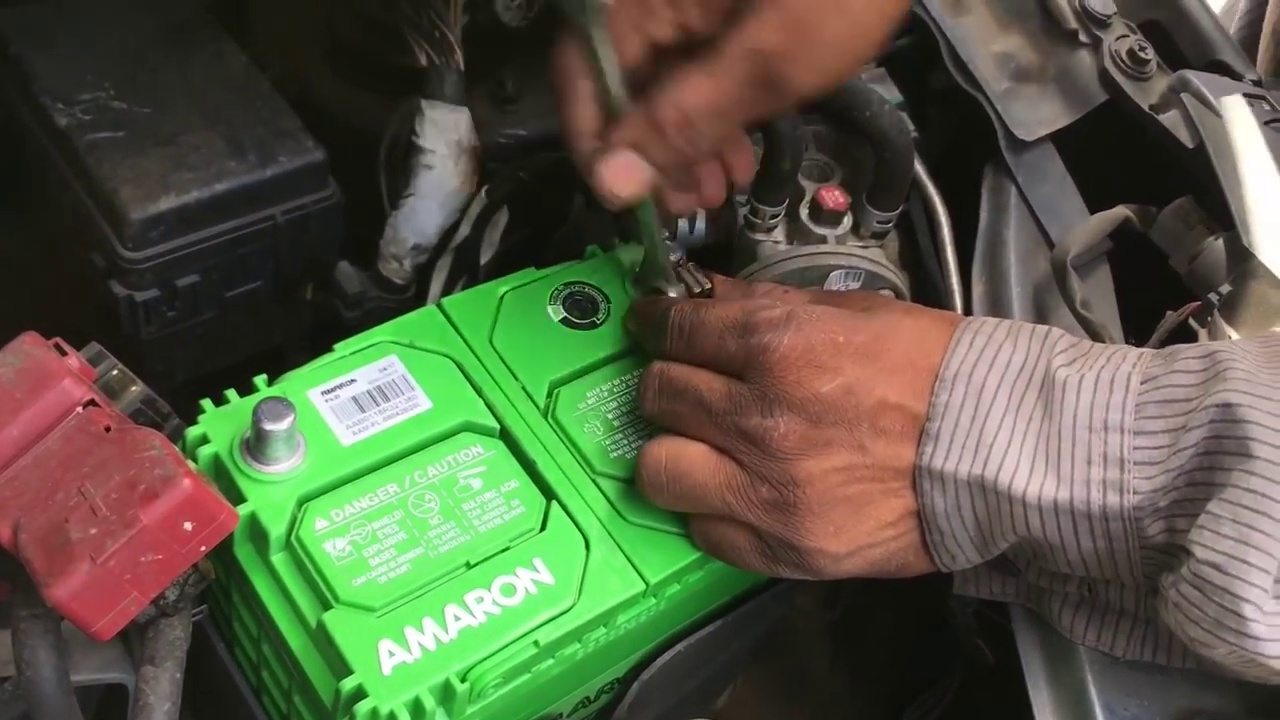battery: (159, 224, 919, 720)
neg_touched: (575, 22, 815, 463)
pos_disconnected: (8, 307, 351, 599)
